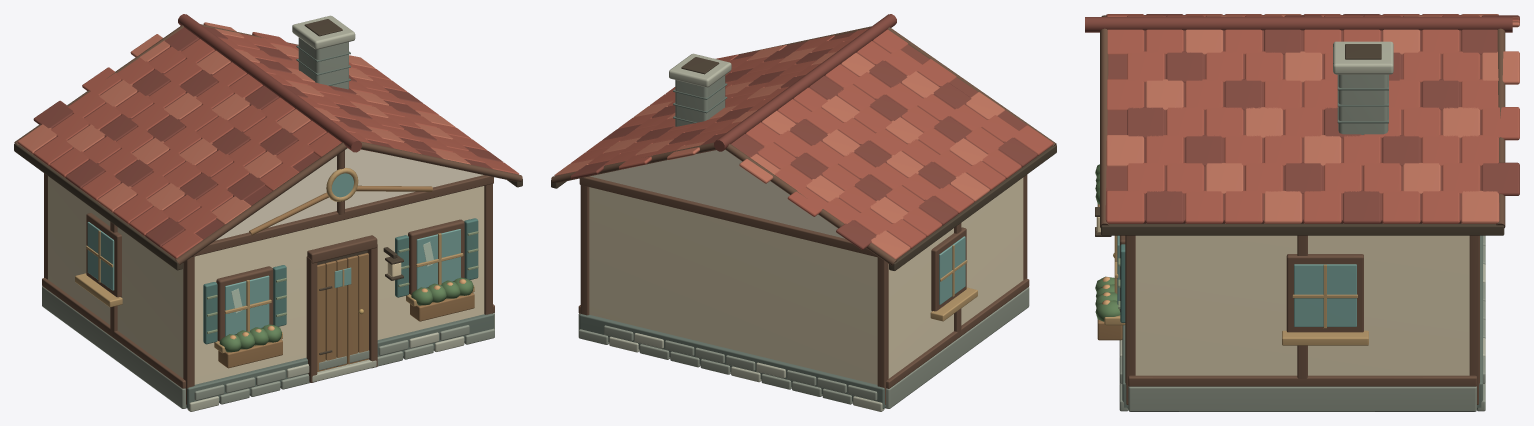
The model's file is cottage.glb.
3 views of the same model, side by side, from view 1: azimuth 30°, elevation 25°; view 2: azimuth 150°, elevation 25°; view 3: azimuth 270°, elevation 25° (orthographic). The views are drawn at different scales.
Parts seen in each view (by area): view 1: cottage_roof, cottage_plaster, cottage_timber, cottage_roof_dark, cottage_roof_light, cottage_stone, cottage_wood, cottage_plaster_light, cottage_glass, cottage_teal, cottage_wood_dark, cottage_stone_light (+3 smaller); view 2: cottage_plaster, cottage_roof, cottage_roof_dark, cottage_timber, cottage_roof_light, cottage_stone, cottage_plaster_light, cottage_stone_dark, cottage_stone_light, cottage_wood_dark, cottage_glass, cottage_wood_light; view 3: cottage_roof, cottage_plaster, cottage_roof_dark, cottage_roof_light, cottage_timber, cottage_stone, cottage_wood_dark, cottage_glass, cottage_wood_light, cottage_stone_light, cottage_stone_dark, cottage_leaf (+2 smaller).
Part boxes in pixels (box(x1,y1,x2,y2)): cottage_roof: box(33, 32, 519, 258); cottage_plaster: box(48, 176, 484, 384); cottage_timber: box(14, 24, 522, 404); cottage_roof_dark: box(33, 14, 517, 257); cottage_roof_light: box(17, 22, 470, 224); cottage_stone: box(42, 37, 494, 408); cottage_wood: box(218, 185, 474, 371); cottage_plaster_light: box(215, 148, 483, 240); cottage_glass: box(87, 173, 460, 336); cottage_teal: box(203, 218, 478, 344); cottage_wood_dark: box(14, 19, 522, 354); cottage_stone_light: box(187, 15, 464, 411); cottage_plaster: box(589, 177, 1023, 384); cottage_roof: box(570, 28, 1053, 248); cottage_roof_dark: box(556, 14, 1037, 257); cottage_timber: box(551, 26, 1056, 404); cottage_roof_light: box(554, 45, 1004, 259); cottage_stone: box(578, 75, 1029, 408); cottage_plaster_light: box(590, 149, 844, 238); cottage_stone_dark: box(579, 83, 885, 408); cottage_stone_light: box(609, 53, 884, 411); cottage_wood_dark: box(551, 57, 1056, 270); cottage_glass: box(939, 236, 965, 304); cottage_wood_light: box(930, 245, 977, 321); cottage_roof: box(1106, 14, 1519, 223); cottage_plaster: box(1135, 235, 1469, 375); cottage_roof_dark: box(1085, 14, 1519, 223); cottage_roof_light: box(1106, 14, 1519, 223); cottage_timber: box(1100, 15, 1505, 404); cottage_stone: box(1119, 74, 1485, 411); cottage_wood_dark: box(1095, 44, 1504, 236); cottage_glass: box(1117, 235, 1356, 326); cottage_wood_light: box(1104, 235, 1368, 345); cottage_stone_light: box(1119, 41, 1485, 384); cottage_stone_dark: box(1122, 74, 1482, 408); cottage_leaf: box(1095, 164, 1120, 321).
Bounding box in the file's own units: 6.51 × 4.62 × 5.73.
